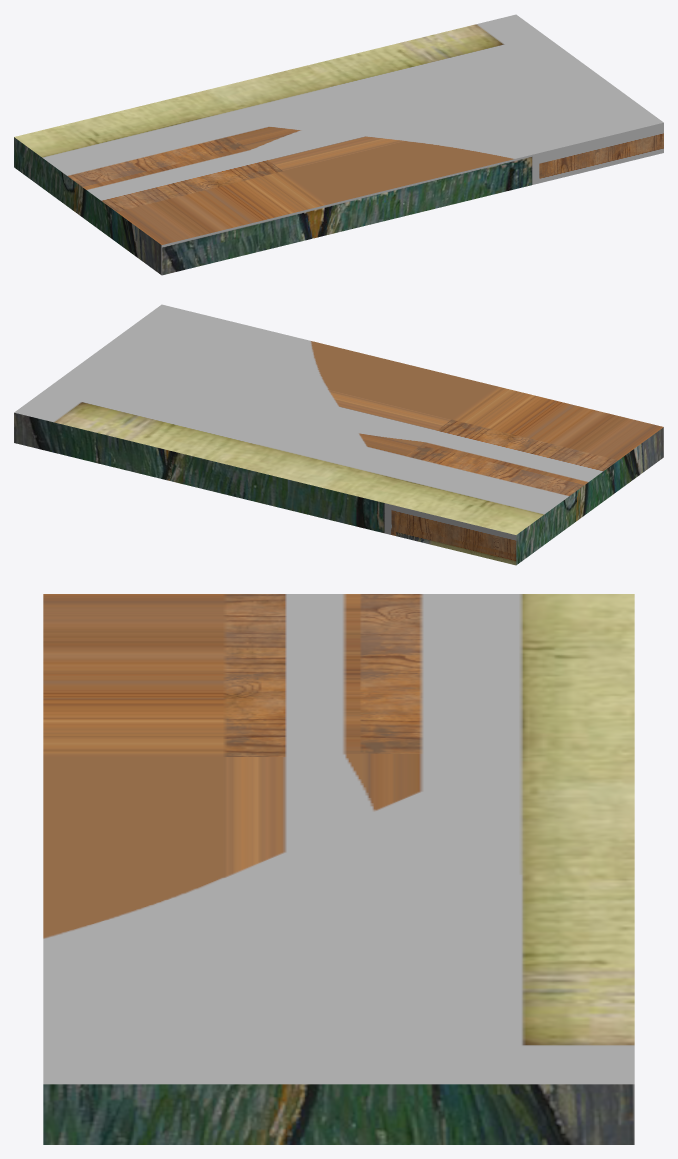
File: ASM - PBR Metallic Roughness.gltf
The picture shows the model from 3 angles, top to bottom: view 1: azimuth 30°, elevation 25°; view 2: azimuth 150°, elevation 25°; view 3: azimuth 270°, elevation 25°; orthographic projection. The views are drawn at different scales.
Parts seen in each view (by area): view 1: Box001; view 2: Box001; view 3: Box001.
Boxes of the visible parts, bbox=[...] form: Box001: bbox=[14, 14, 663, 275]; Box001: bbox=[14, 304, 663, 565]; Box001: bbox=[43, 594, 634, 1144].
Bounding box in the file's own units: 1.04 × 0.06 × 0.53.
